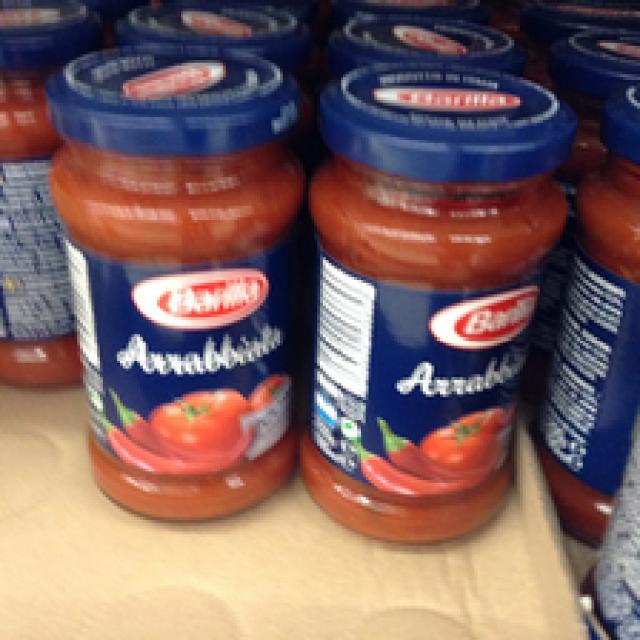groceries: (297, 51, 569, 548), (43, 40, 303, 523)
